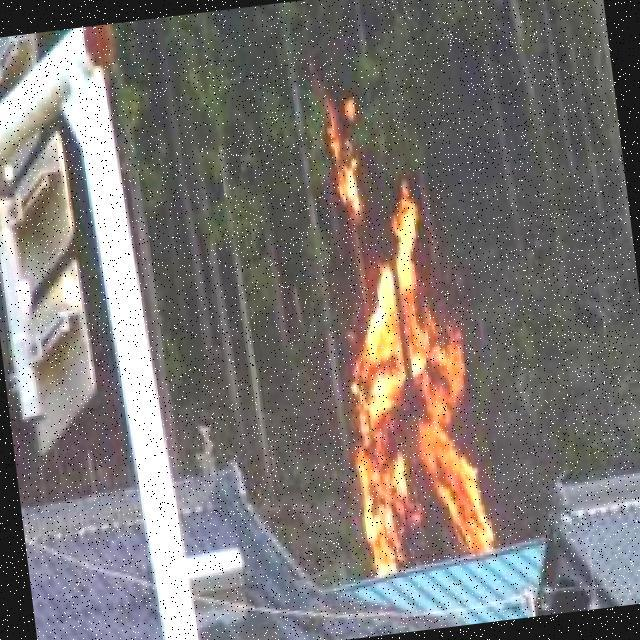Fire: (315, 199, 501, 583), (307, 99, 372, 214)
